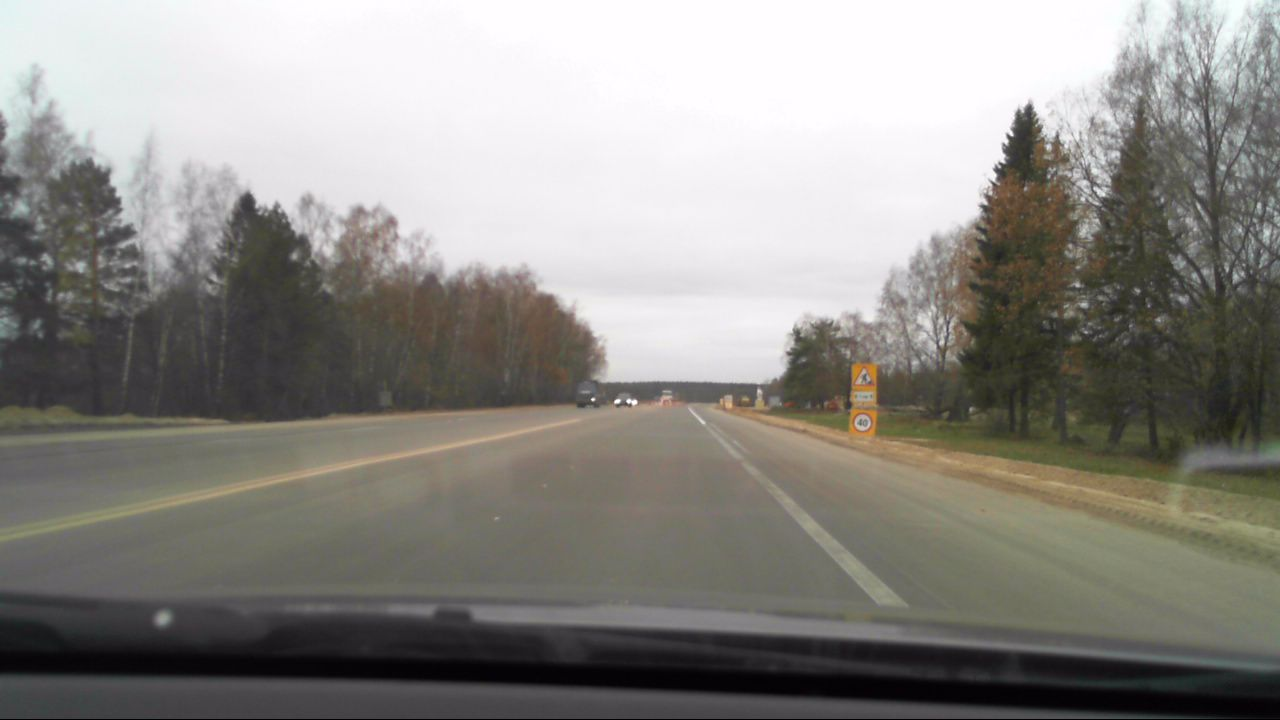speed_warning_40: (850, 409, 875, 436)
